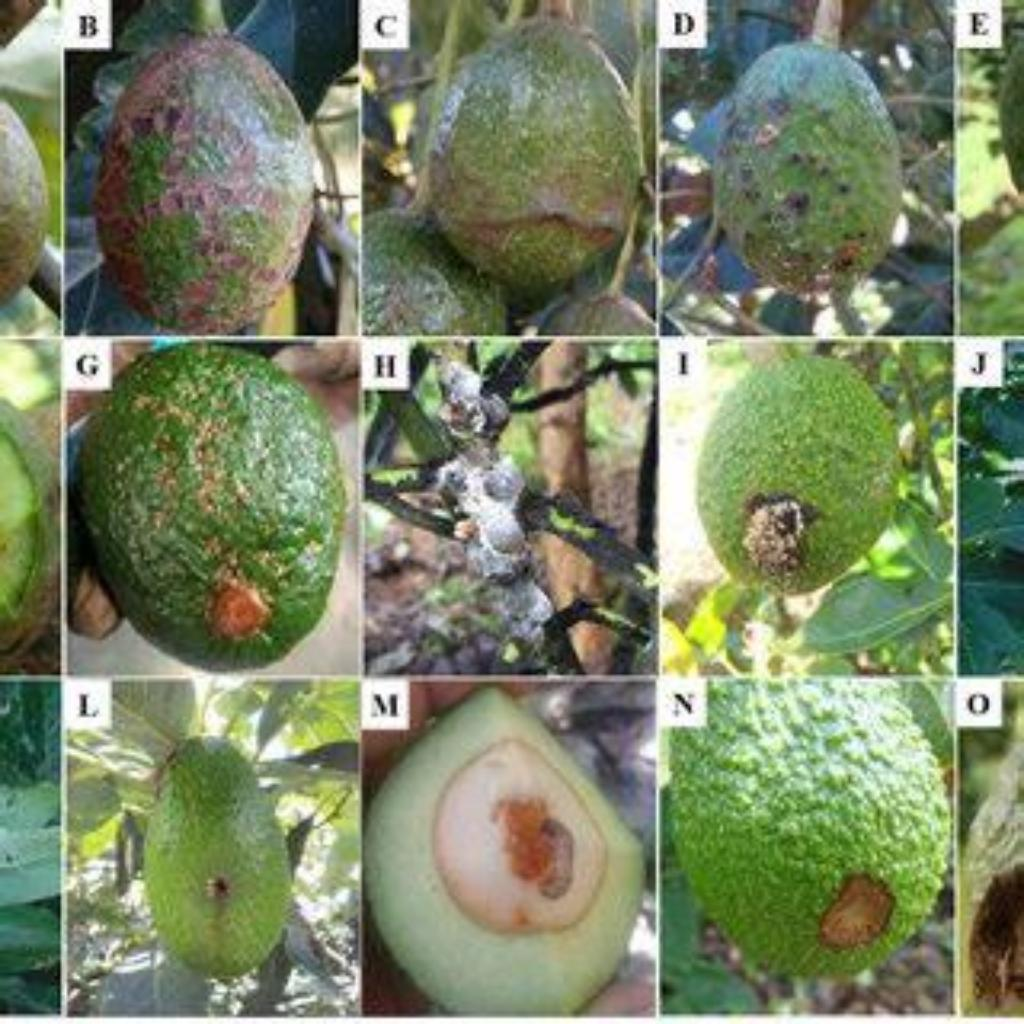antracnosis_fruto: (704, 34, 922, 328), (664, 376, 872, 622)
